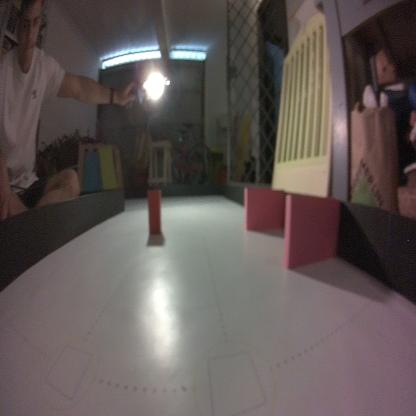magenta: (282, 192, 344, 274), (242, 186, 288, 234)
red: (146, 186, 161, 234)
